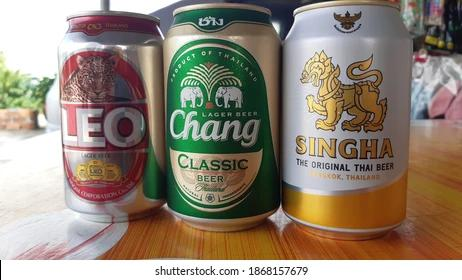metal: (285, 4, 412, 238), (164, 2, 281, 232), (56, 7, 166, 218)
